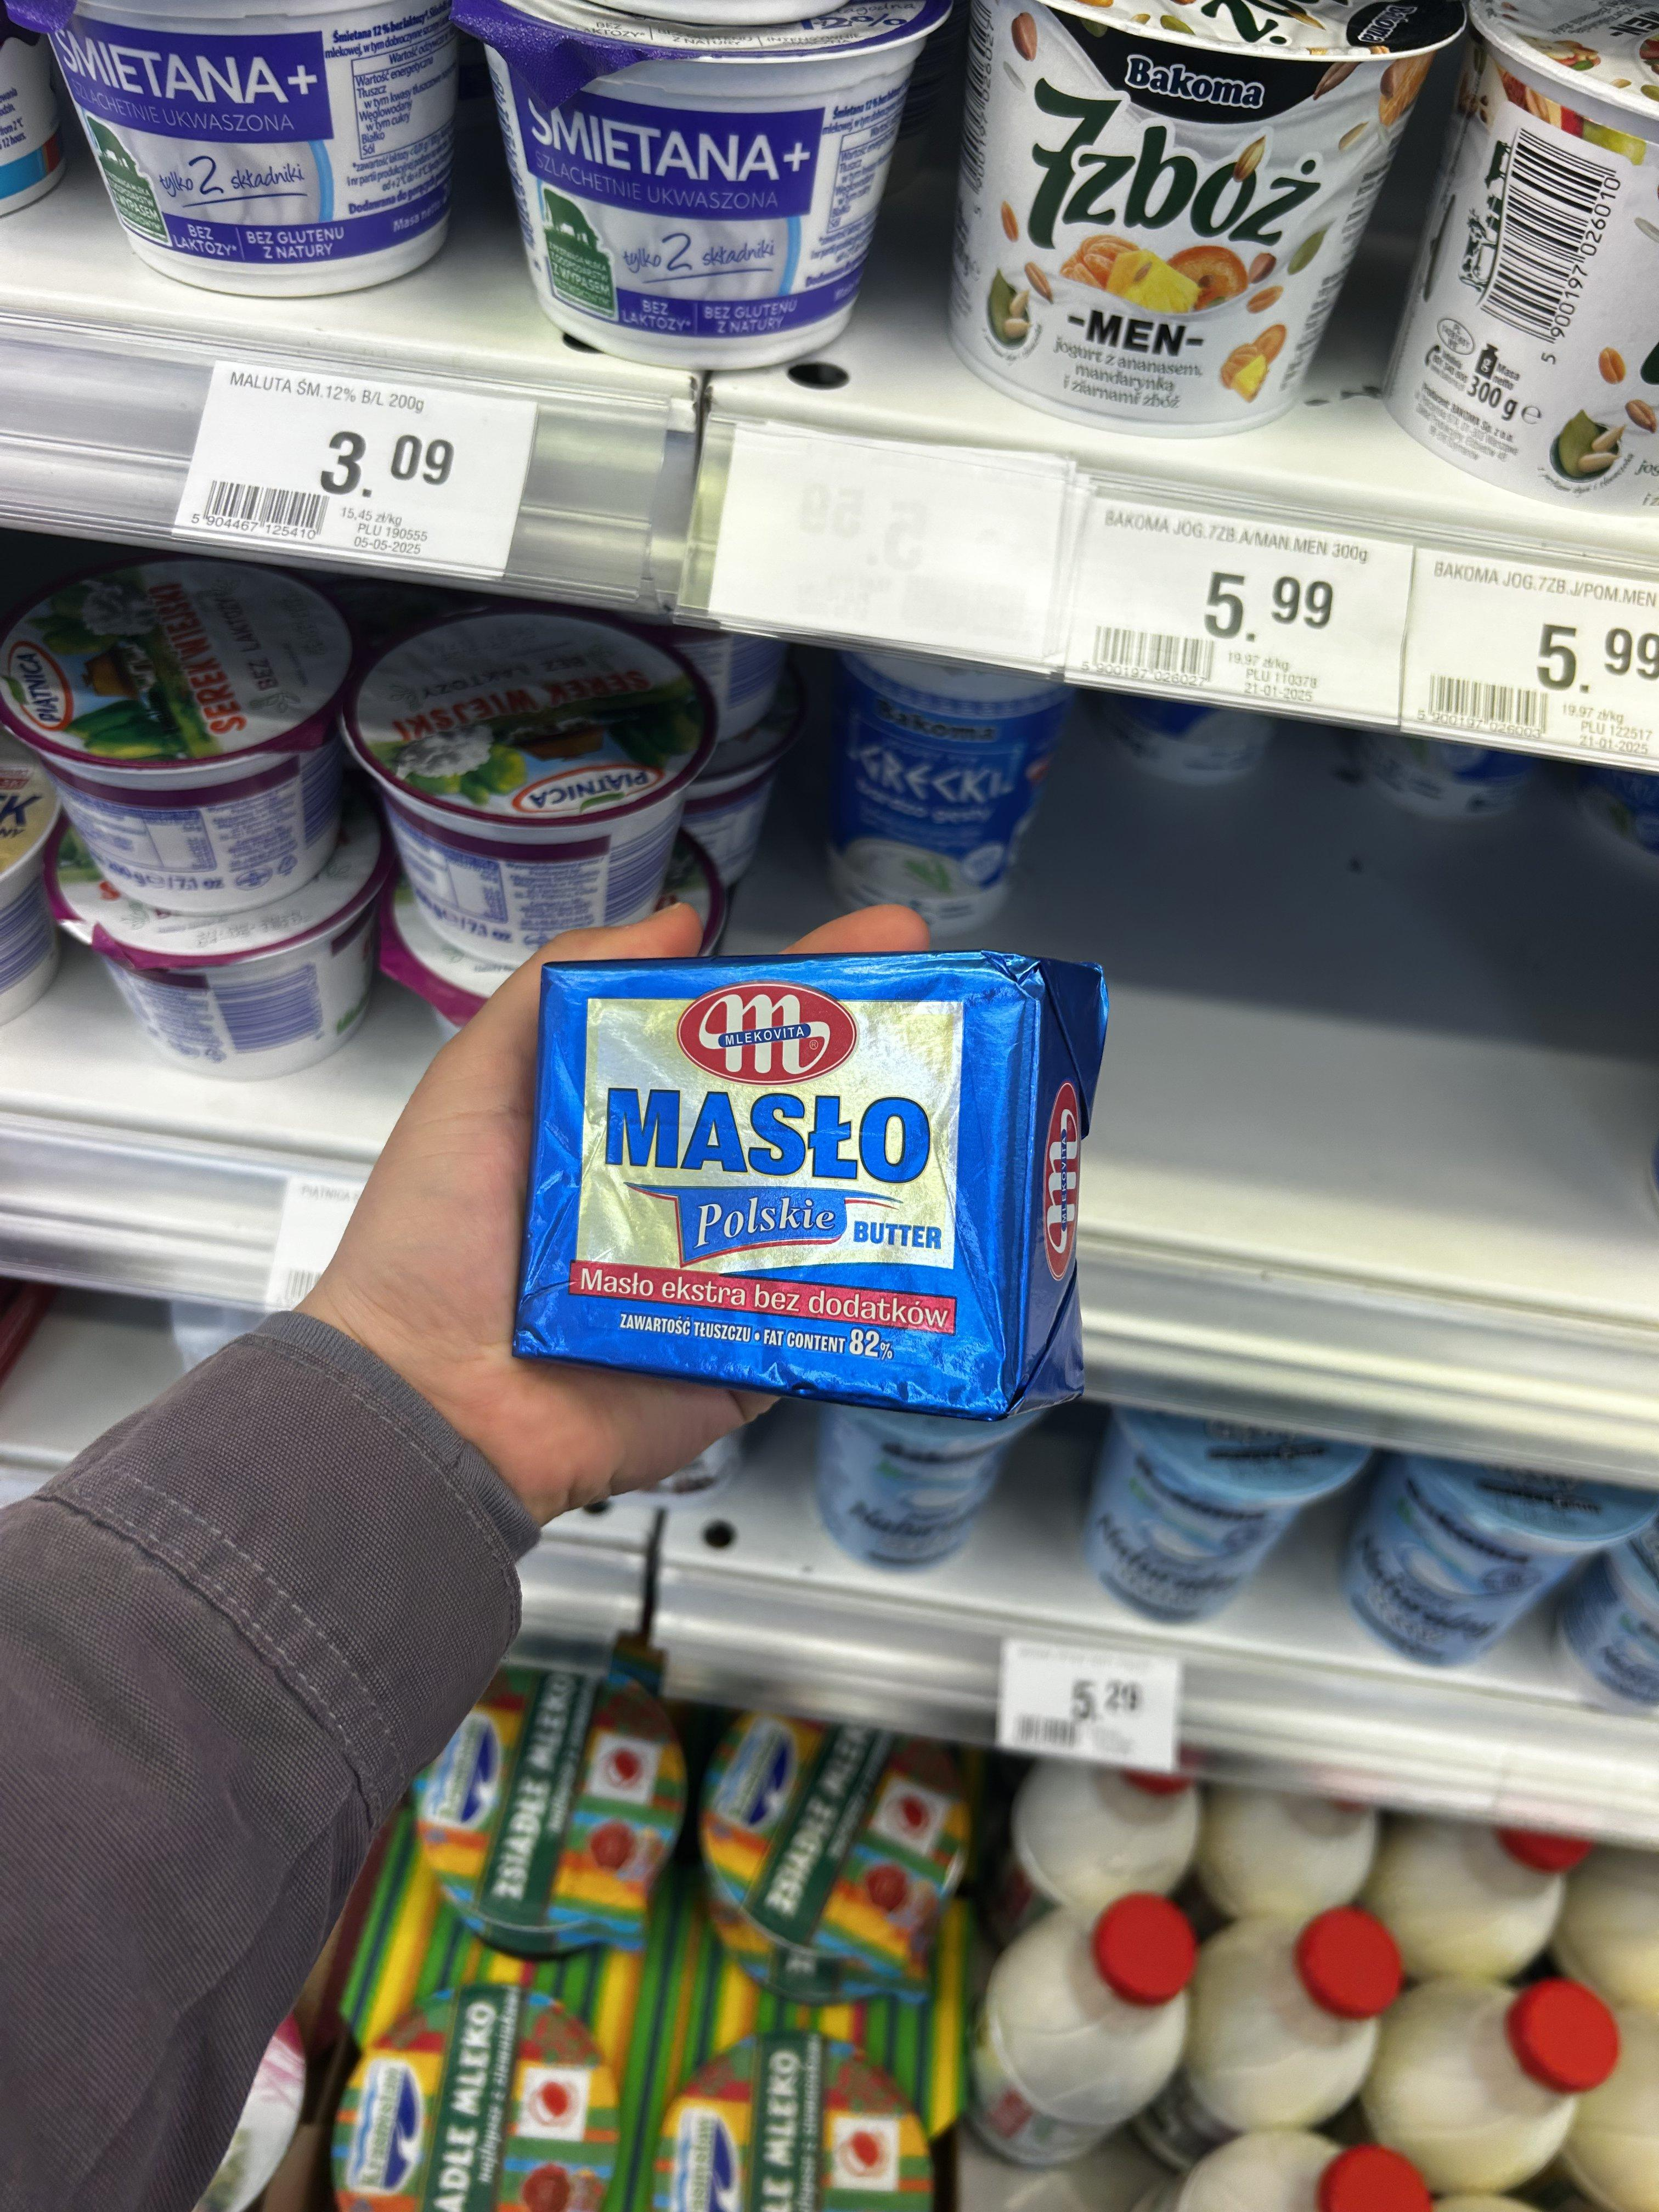Butter: (483, 932, 1133, 1426)
